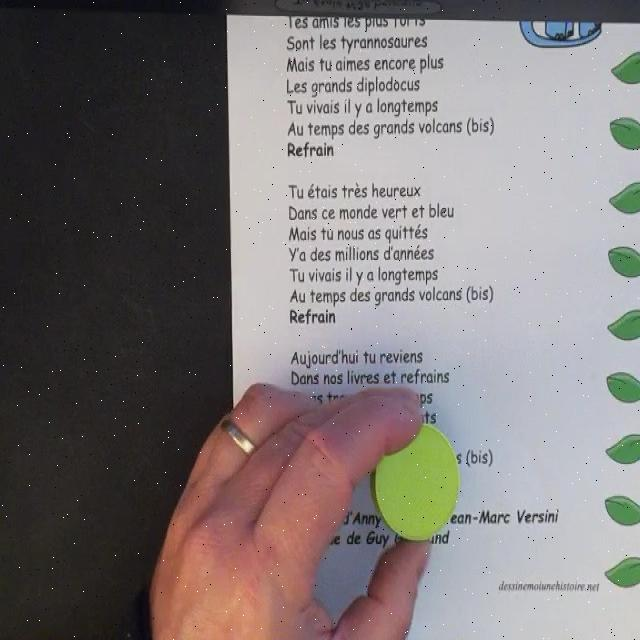round: (371, 420, 461, 541)
